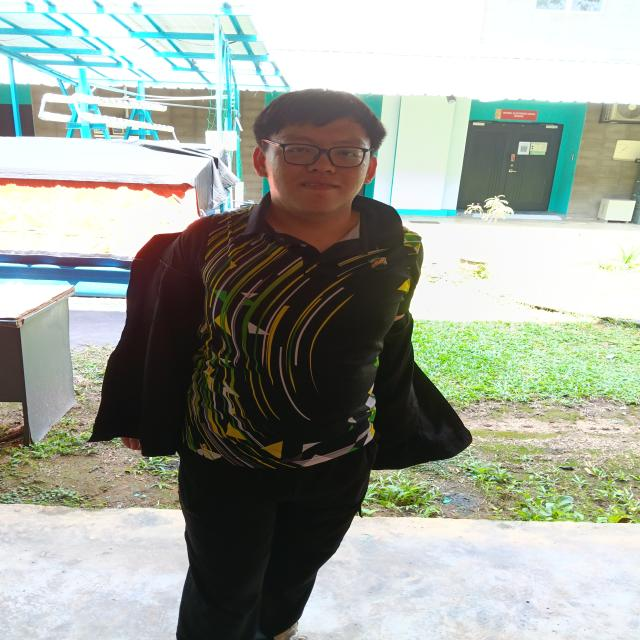person_without_labcoat: (93, 89, 470, 640)
